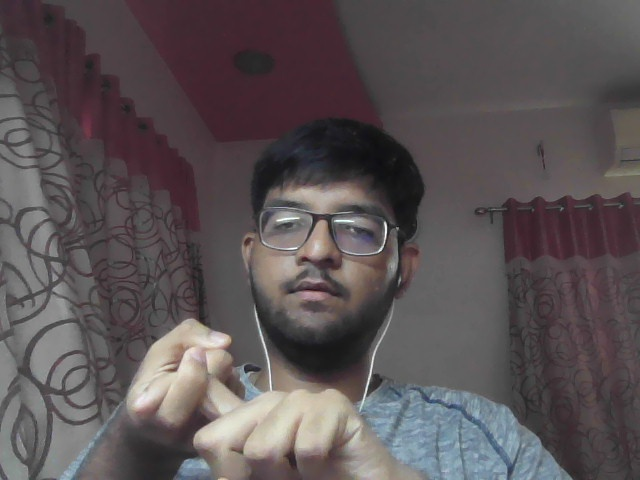મિત્ર: (95, 304, 410, 479)
